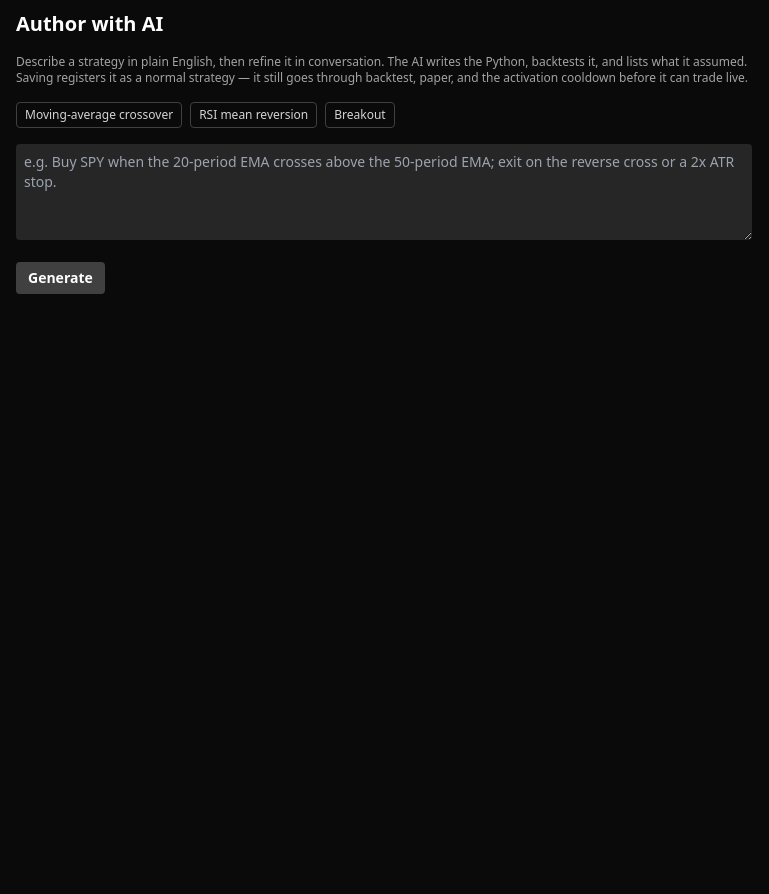
Scenario: AuthorWithAI › refines and appends a turn
Step 1. Replace the text in the text box with placeholder "Buy SPY when" with "x" → (384, 192), box [16,144,752,240]
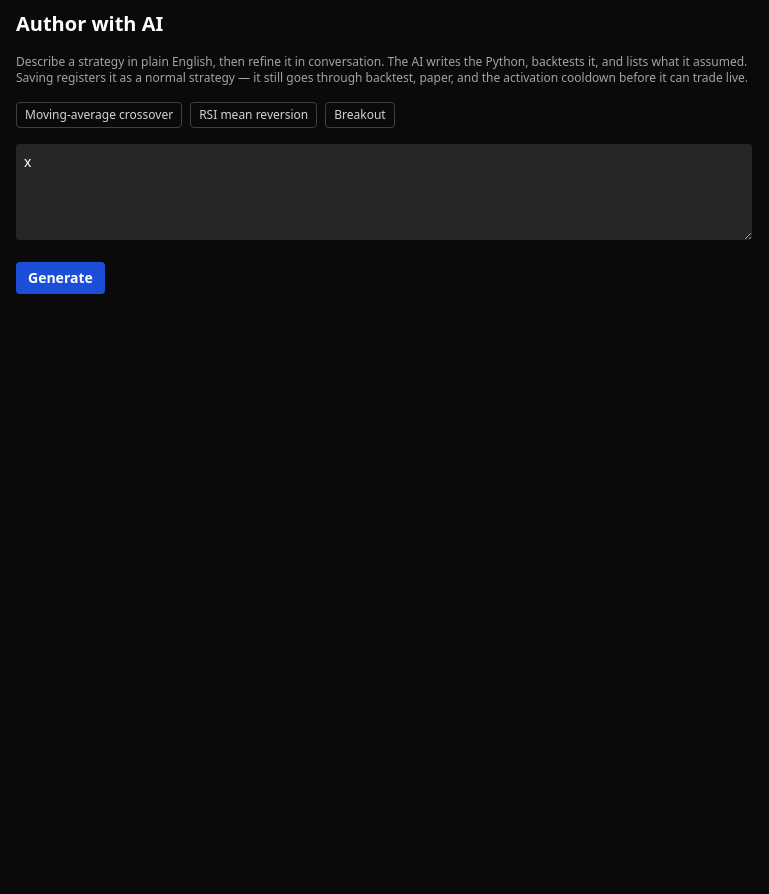
Step 2. Click the button "Generate" → (60, 278), box [16,262,105,294]
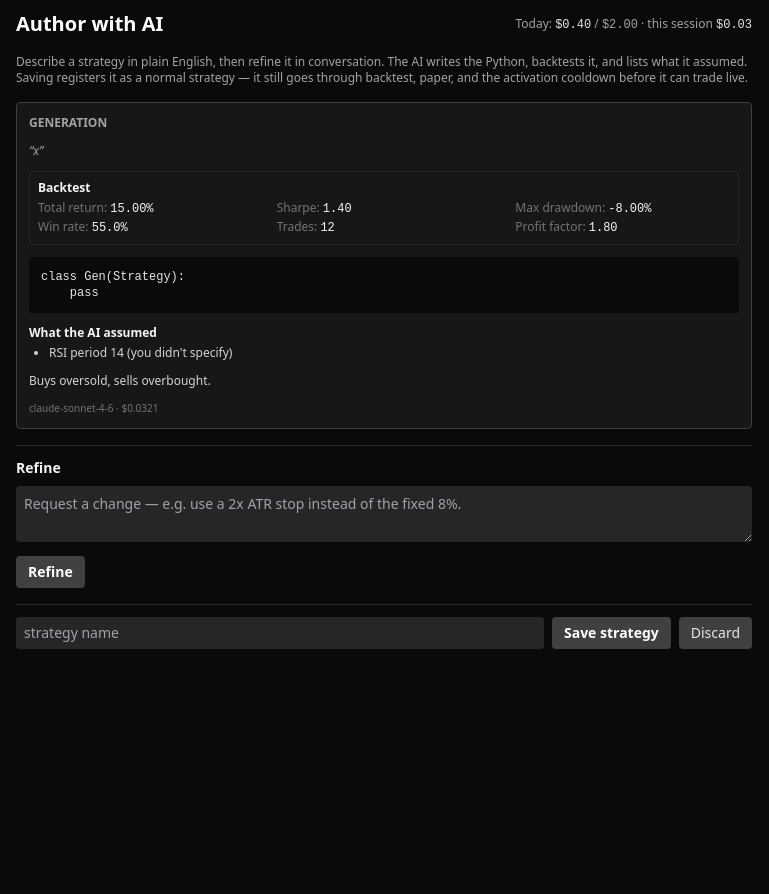
Now the text "class Gen(Strategy): pass" is shown, box [41,270,185,300]
Step 3. Replace the text in the text box with placeholder "Request a change" with "tighter stop" → (384, 514), box [16,486,752,542]
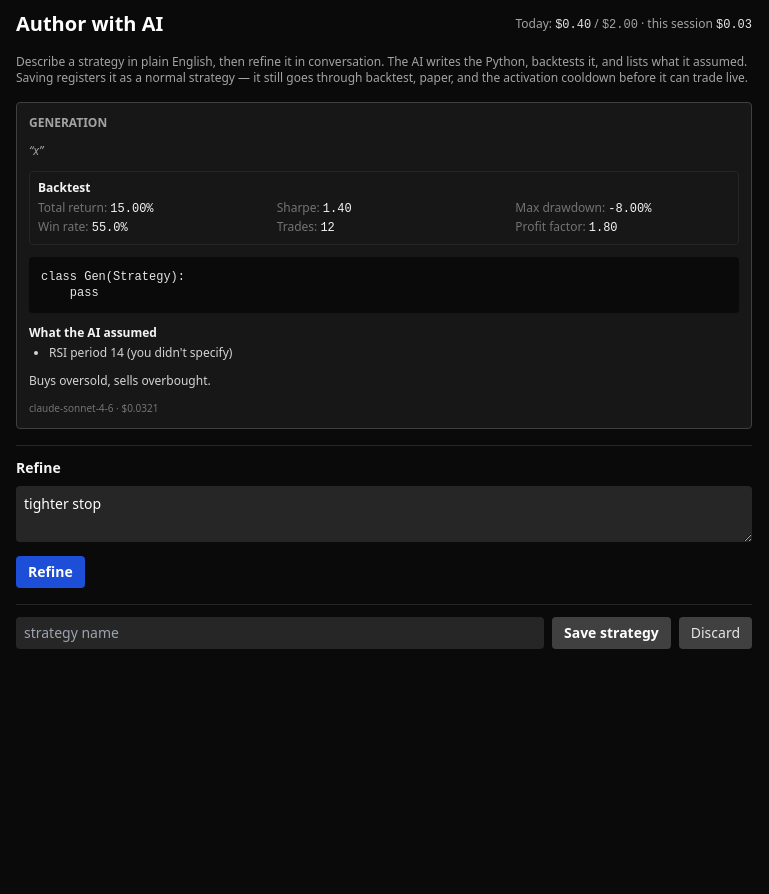
Step 4. Click the button "Refine" → (50, 572), box [16,556,85,588]
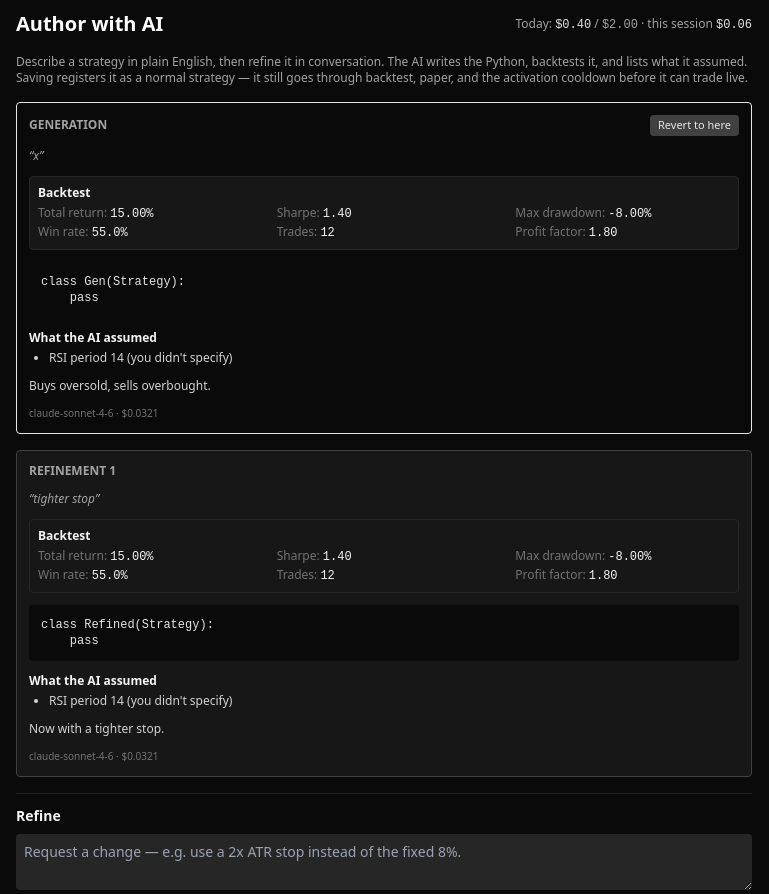
Now the text "class Refined(Strategy): pass" is shown, box [41,618,214,648]
